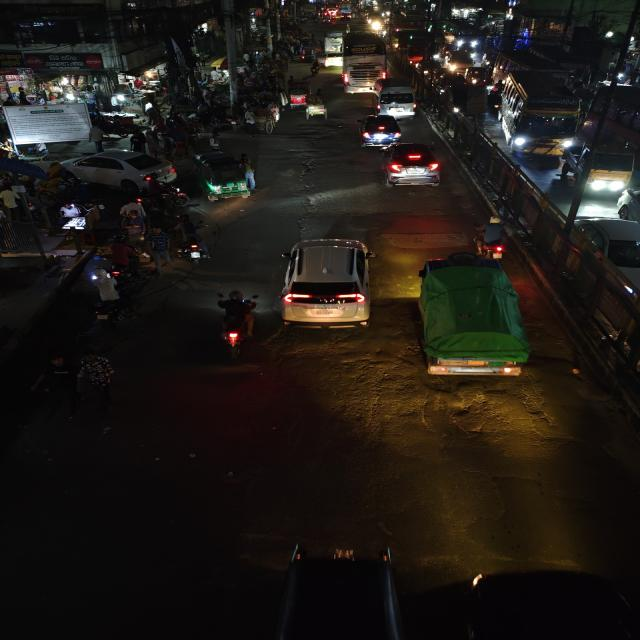bus: (500, 68, 585, 154), (340, 31, 390, 91)
car: (275, 235, 377, 329), (574, 215, 640, 307), (54, 148, 180, 190), (376, 141, 446, 189), (356, 113, 402, 145), (616, 183, 640, 231)
cng: (192, 151, 258, 203), (371, 77, 418, 116)
motorcycle: (211, 289, 261, 361), (86, 292, 142, 332), (173, 214, 214, 266), (472, 216, 510, 260)
pedestrian: (147, 226, 173, 268), (91, 277, 122, 303), (126, 128, 151, 153), (242, 112, 260, 136), (205, 129, 224, 150), (266, 103, 282, 126)
pickup_van: (409, 255, 536, 381), (587, 88, 639, 194)
rickshaw: (282, 82, 311, 110), (304, 90, 329, 122)
truck: (555, 143, 636, 197)
